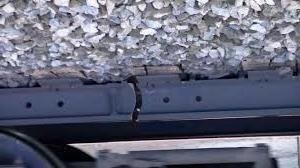error2: (126, 76, 152, 133)
